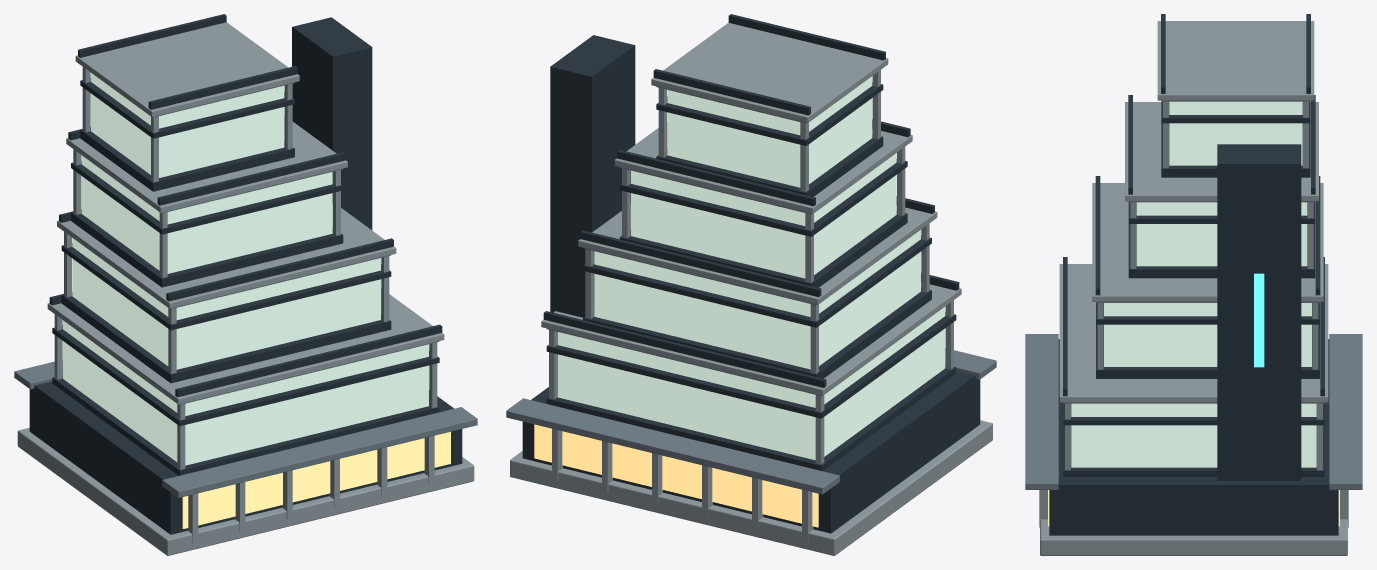
The model's file is vrx_city_services_a_LOD0.fbx.
3 views of the same model, side by side, from view 1: azimuth 30°, elevation 25°; view 2: azimuth 150°, elevation 25°; view 3: azimuth 270°, elevation 25° (orthographic). The views are drawn at different scales.
Visible parts, largest first — view 1: vrx_city_services_a_LOD0; view 2: vrx_city_services_a_LOD0; view 3: vrx_city_services_a_LOD0.
Part boxes in pixels (left/top/right/bottom): vrx_city_services_a_LOD0: left=14, top=14, right=477, bottom=555; vrx_city_services_a_LOD0: left=506, top=14, right=996, bottom=555; vrx_city_services_a_LOD0: left=1025, top=14, right=1362, bottom=555.
Bounding box in the file's own units: 39 × 48.5 × 36.2.
